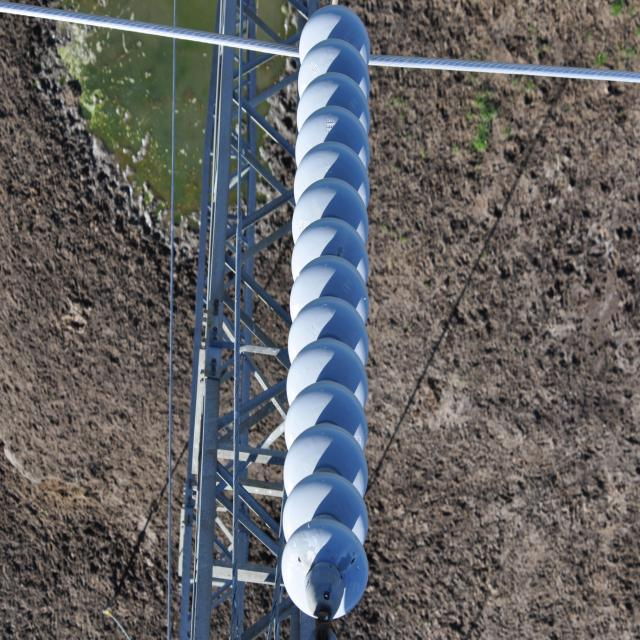insulator: (282, 8, 372, 614)
